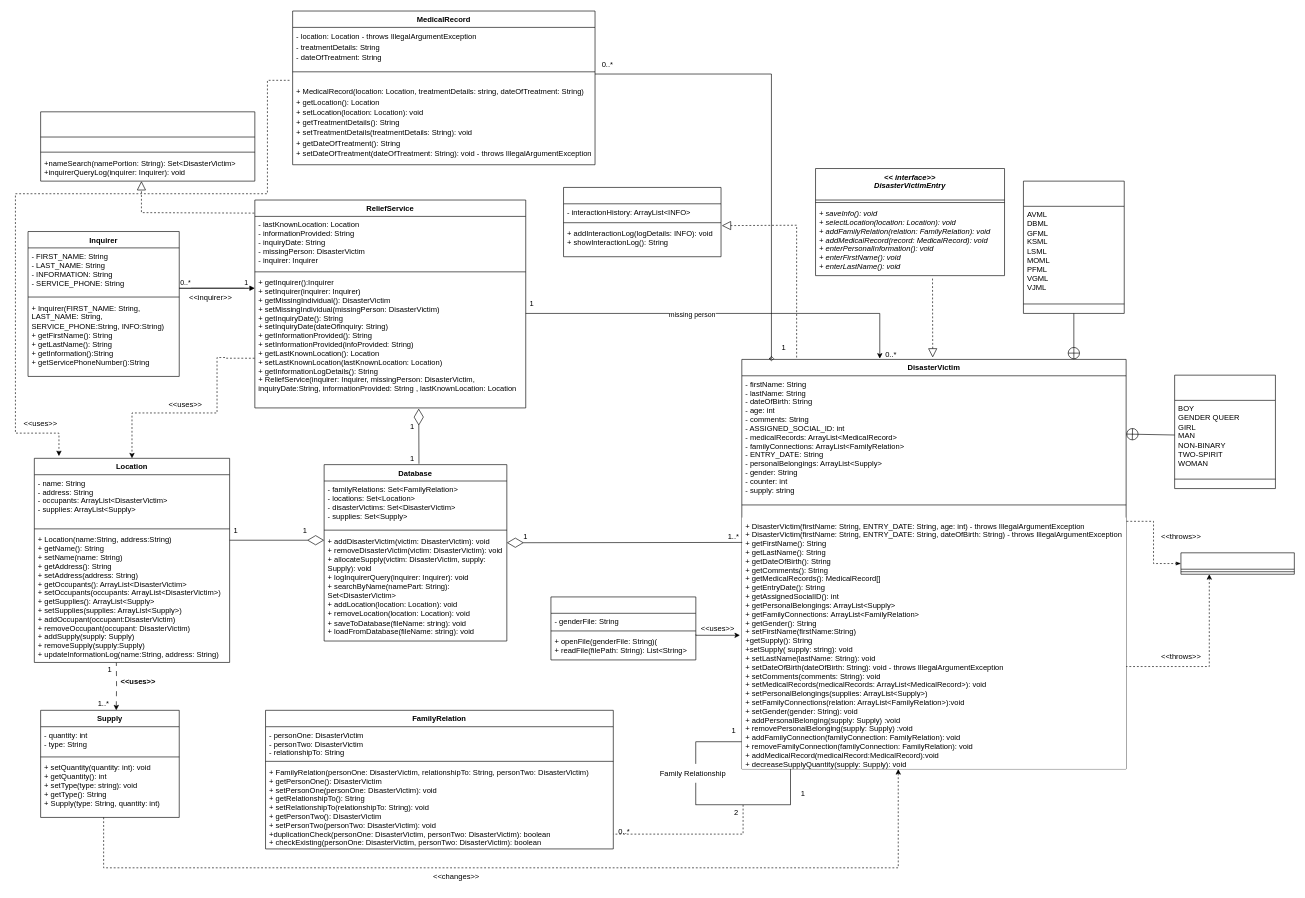
Image size: 1305x898. Some labels were removed from this diagram. The shapes that lost their labels are listed below. From the top down, each one's box as (x1, y1, x2, y2) in pixels, then its label:
(40, 111, 255, 181): <<interface>> InquirerQuery
(563, 187, 721, 257): <<interface>> Inquirer
(1023, 180, 1124, 313): <<enumeration>> Diet
(1174, 375, 1275, 489): <<enumeration>> Gender
(1180, 552, 1294, 574): IllegalArgumentException
(550, 596, 696, 660): ManageFiles
